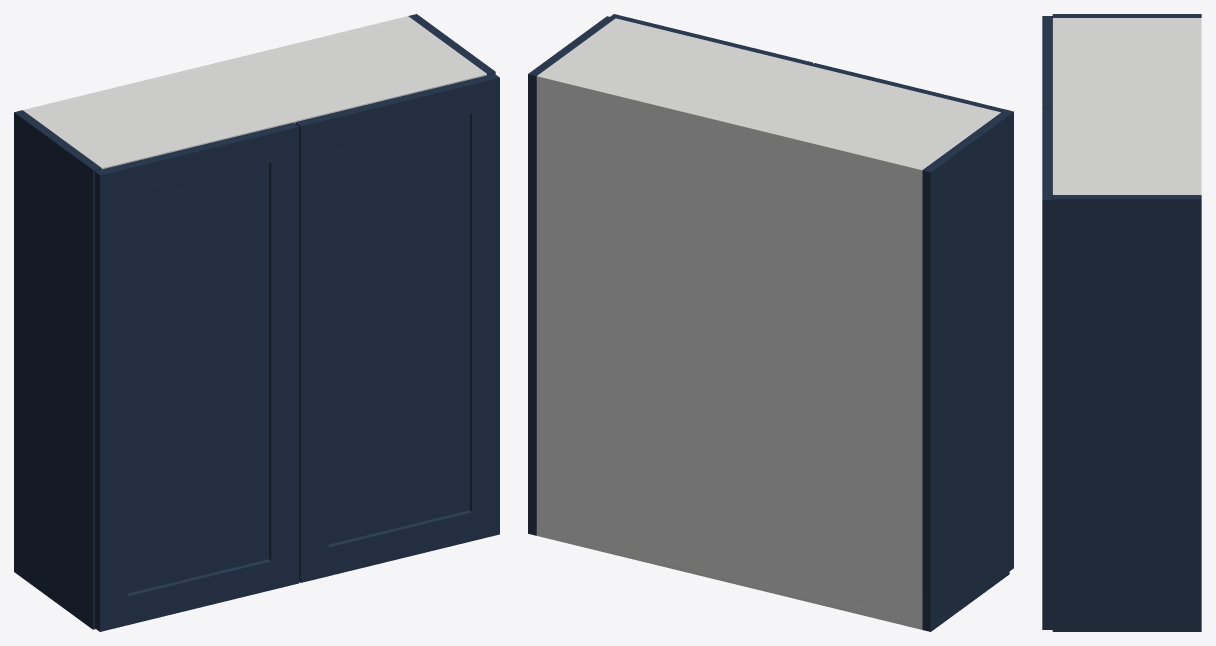
The model's file is oppein-pb-bss-w3336.glb.
3 views of the same model, side by side, from view 1: azimuth 30°, elevation 25°; view 2: azimuth 150°, elevation 25°; view 3: azimuth 270°, elevation 25° (orthographic). The views are drawn at different scales.
Parts seen in each view (by area): view 1: Door, Door.001, Cabinet side, Cabinet top, Cabinet back, Cabinet side.001; view 2: Cabinet back, Cabinet side, Cabinet top, Cabinet side.001, Cabinet bottom, Door, Door.001; view 3: Cabinet side.001, Cabinet top, Door.001, Cabinet back, Door, Cabinet side.
Part boxes in pixels (x1,y1,x2,y2): Door: (94, 122, 299, 631); Door.001: (295, 73, 499, 582); Cabinet side: (14, 110, 101, 629); Cabinet top: (26, 18, 486, 169); Cabinet back: (23, 16, 410, 112); Cabinet side.001: (408, 14, 495, 75); Cabinet back: (536, 74, 924, 629); Cabinet side: (922, 112, 1009, 631); Cabinet top: (536, 18, 1000, 178); Cabinet side.001: (528, 16, 614, 535); Cabinet bottom: (537, 527, 922, 629); Door: (811, 63, 1013, 570); Door.001: (610, 14, 813, 65); Cabinet side.001: (1052, 195, 1201, 631); Cabinet top: (1052, 18, 1201, 194); Door.001: (1042, 108, 1052, 629); Cabinet back: (1195, 18, 1201, 194); Door: (1042, 16, 1052, 108); Cabinet side: (1052, 14, 1201, 17).
Bounding box in the file's own units: 0.8382 × 0.9144 × 0.3048.
